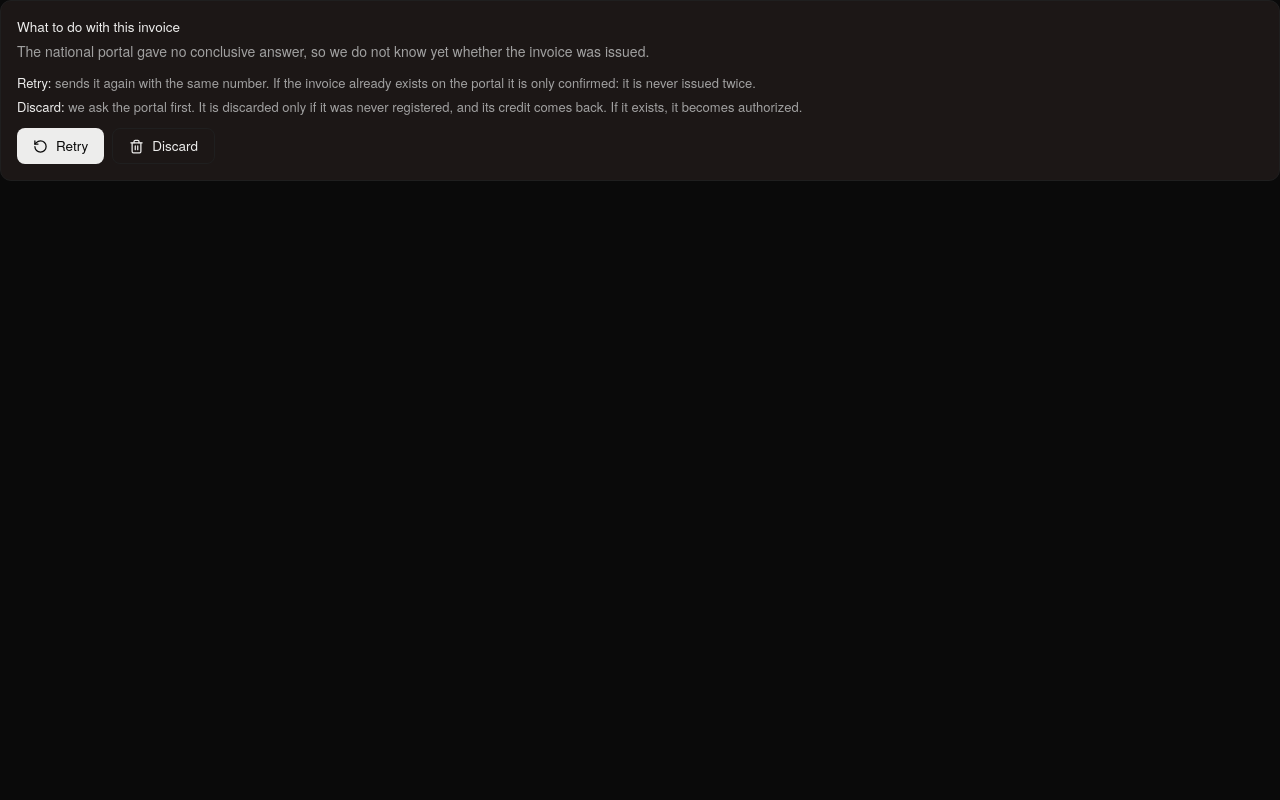
Test: ManualReviewActions › discards only after the person confirms what the portal check means
Later steps or results of the test are not shown.
Click the button "Discard".
click(164, 146)  # box [112,128,215,164]
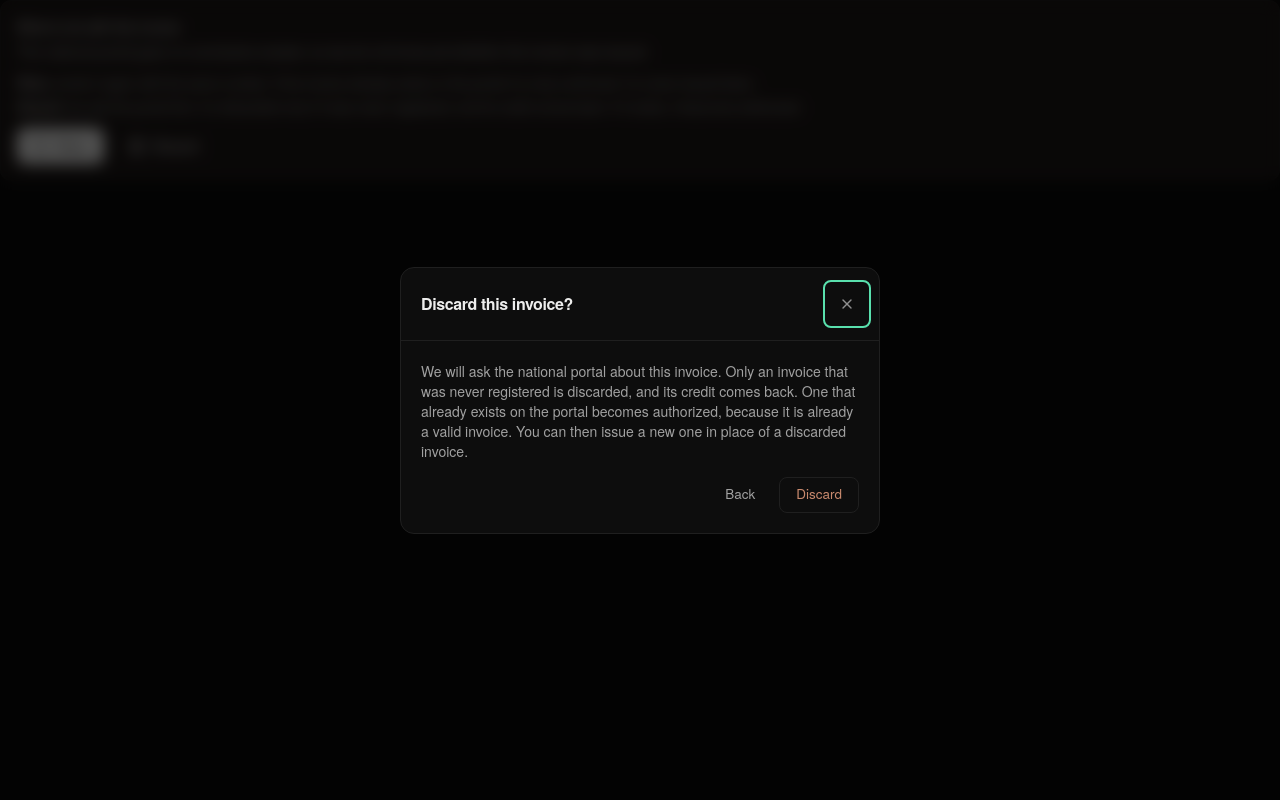
Expected: the text "Only an invoice that was never registered is discarded" is shown, [421,360,855,460]
